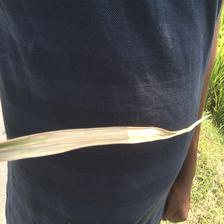2 BacterialBlight: (4, 129, 195, 154)
